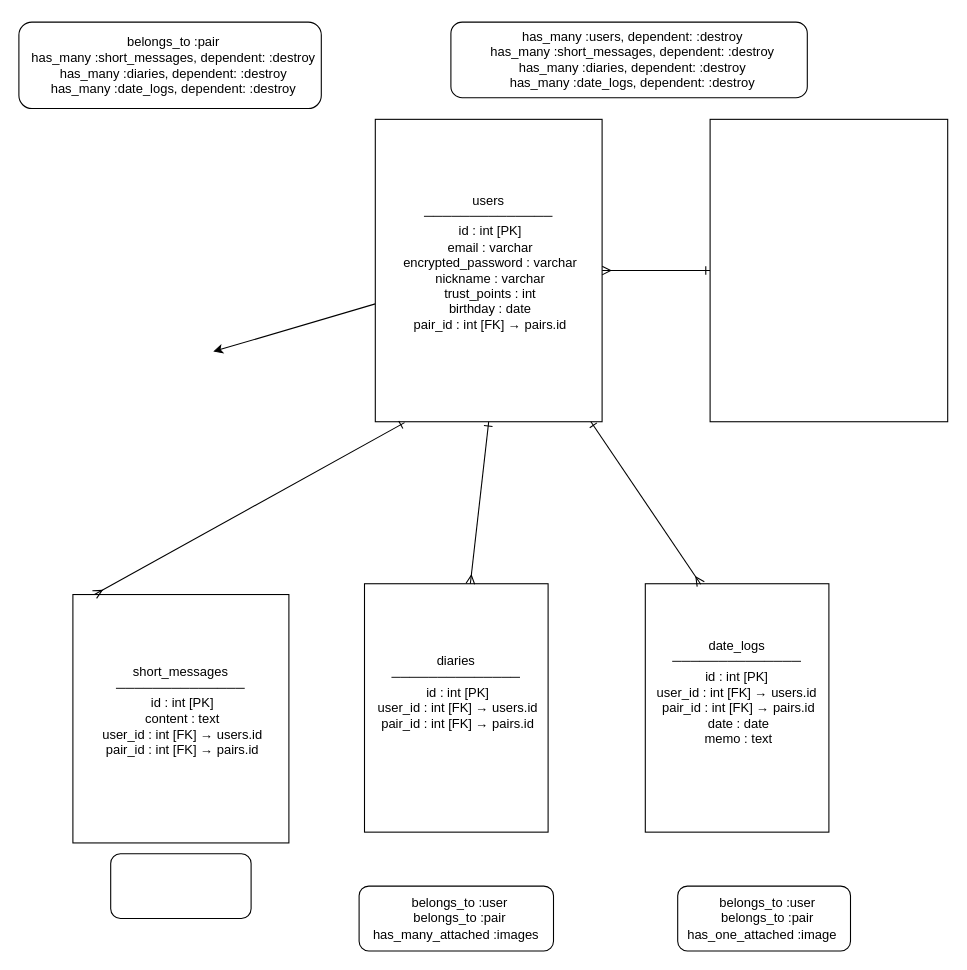
Some shapes in this 967 by 970 pixel diagram are drawn without their labels. The centre of each missing label's shape, as x and y in pixels:
"belongs_to :user belongs_to :pair" belongs at point 180,886.
"pairs ────────────── id : int [PK] anniversary : date invite_code : varchar" belongs at point 828,270.
